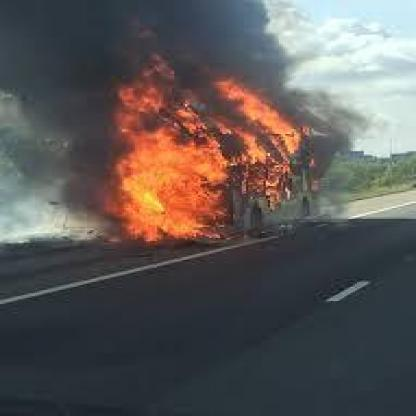fire: (74, 47, 339, 249)
smoke: (0, 2, 290, 77)
